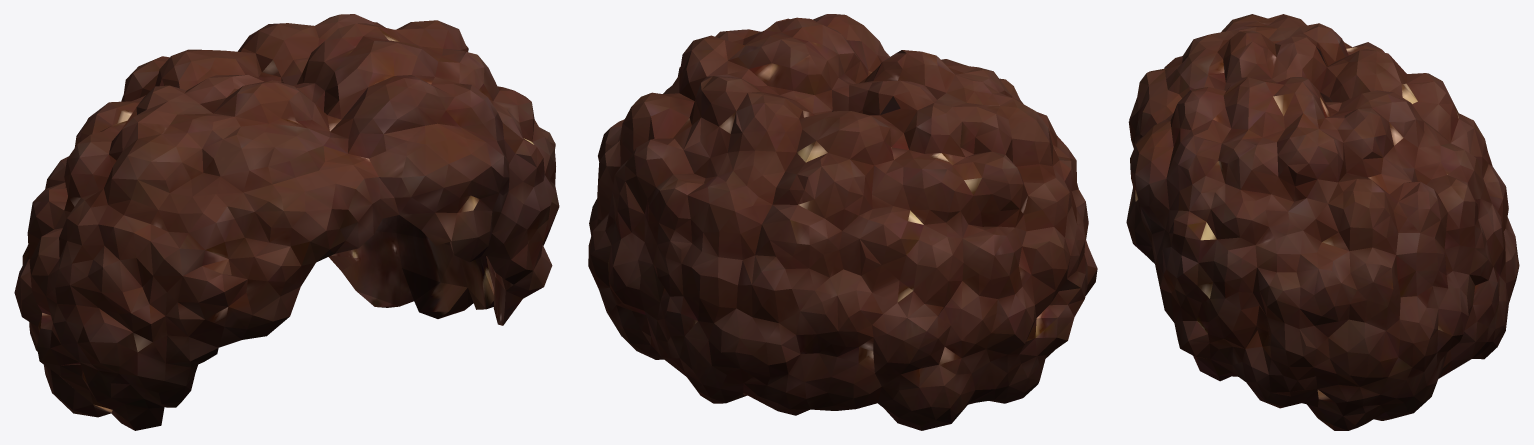
Rendered from hairstyle_079.glb.
The picture shows the model from 3 angles, left to right: view 1: azimuth 30°, elevation 25°; view 2: azimuth 150°, elevation 25°; view 3: azimuth 270°, elevation 25°; orthographic projection. The views are drawn at different scales.
Visible parts, largest first — view 1: geometry_0_079; view 2: geometry_0_079; view 3: geometry_0_079.
Part boxes in pixels (x1,y1,x2,y2): geometry_0_079: (14, 14, 559, 430); geometry_0_079: (588, 14, 1097, 430); geometry_0_079: (1126, 14, 1519, 430).
Size of the model in its own units: 1.2 by 0.7578 by 0.8946.
1 material, 1 textured.
